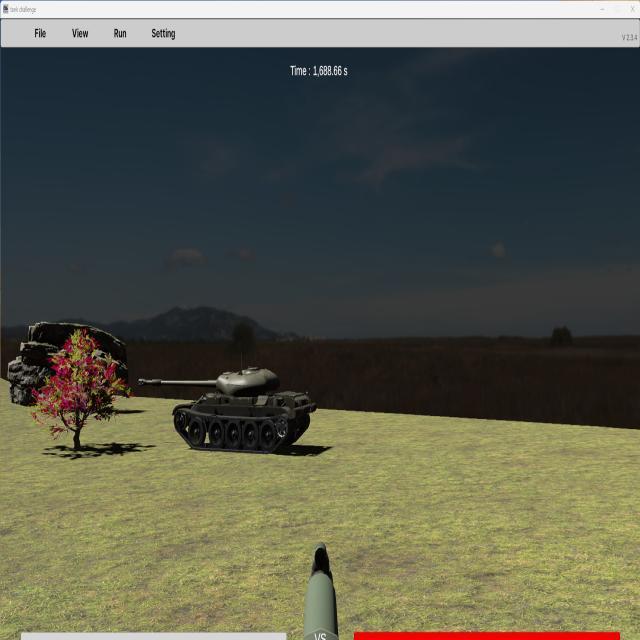Tank: (137, 365, 318, 453)
